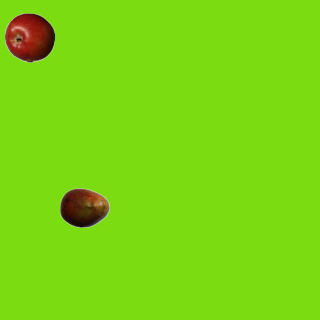Apple Braeburn: (4, 12, 54, 62)
Mango Red: (59, 182, 109, 232)
